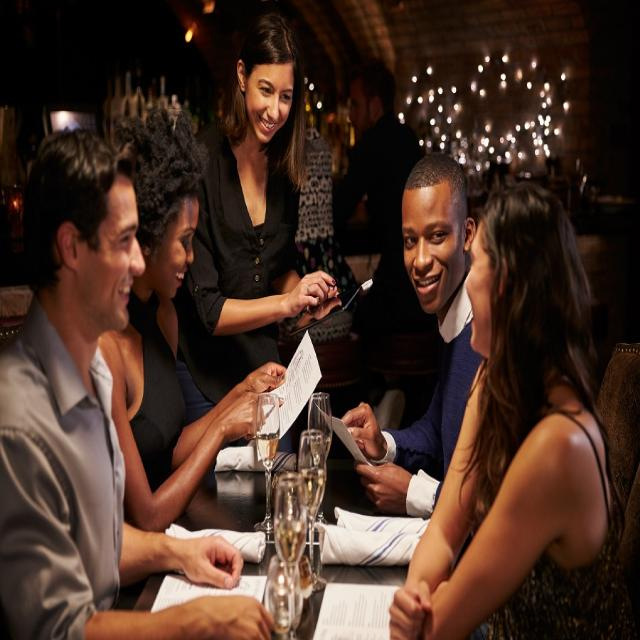person: (450, 184, 640, 640), (13, 127, 158, 640), (204, 20, 329, 369), (128, 90, 217, 510), (396, 142, 478, 500)
